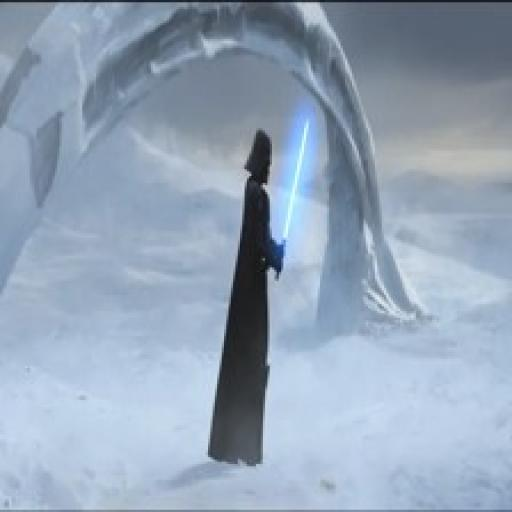lightsaber: (276, 121, 312, 280)
